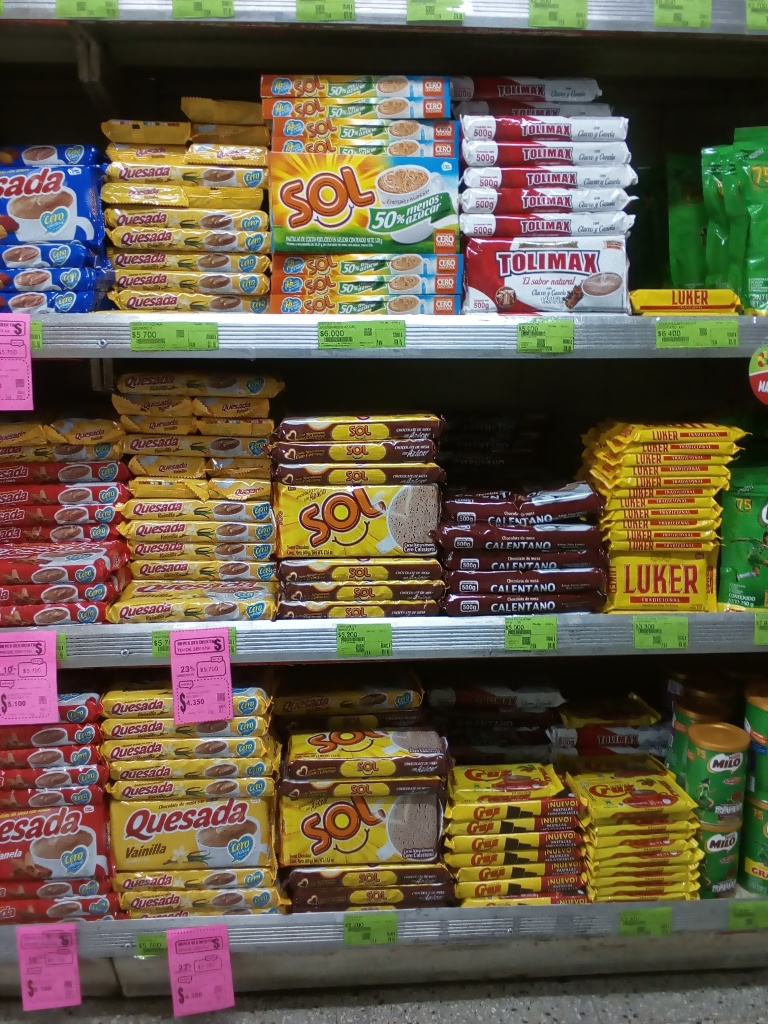COL0170203LAT20000: (695, 815, 743, 899)
